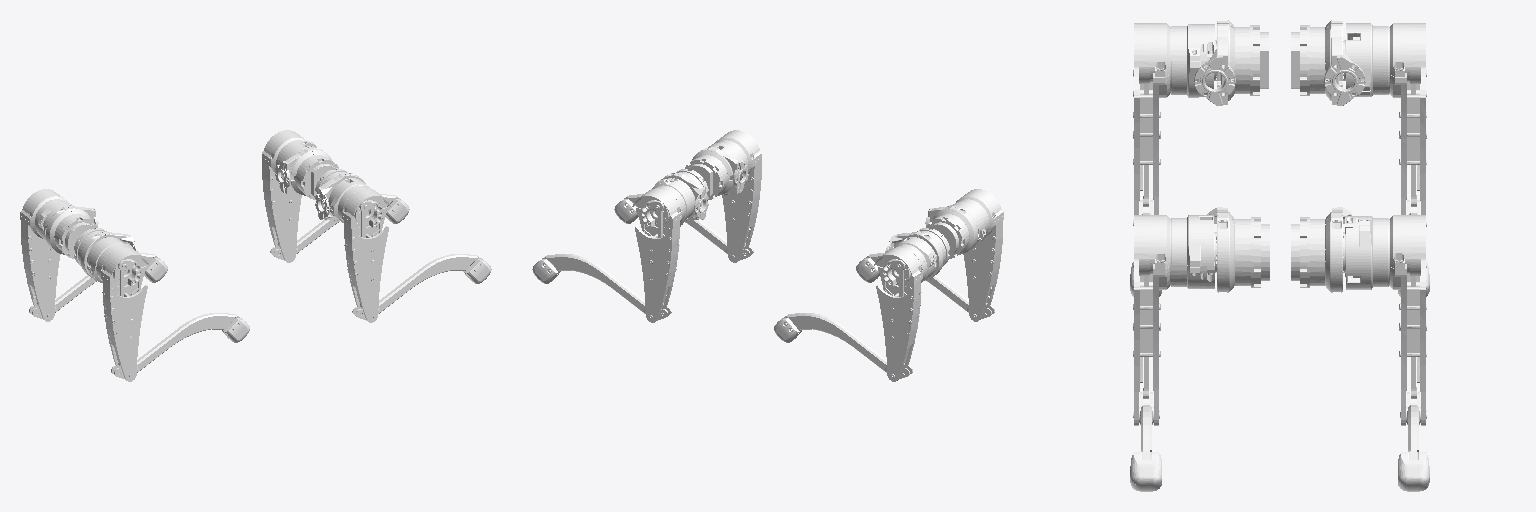
URDF robot description (rc_dog_description_0612):
<?xml version="1.0"?>
<robot name="rc_dog_description_0612">

    <link name="base_link">
      <visual>
        <origin xyz="0 0 0" rpy="0 0 0" />
        <geometry>
          <mesh filename="../meshes/base_link.STL" />
        </geometry>
        <material>
          <color rgba="1.00000000 1.00000000 1.00000000 1.00000000"/>
        </material>
      </visual>
      <collision>
        <origin xyz="-0.21 -0.13 -0.05" rpy="1.5708 0 1.5708" />
        <geometry>
          <mesh filename="../meshes/shenti.STL" scale="0.001 0.001 0.001" />
        </geometry>
      </collision>
      <inertial>
        <origin xyz="-0.0058122 0.0004266 -0.0010546" rpy="0 0 0" />
        <mass value="7.5142" />
        <inertia ixx="0.024114" ixy="-0.0000014" ixz="0.0000137" iyy="0.015768" iyz="0.0000984" izz="0.035708" />
      </inertial>
    </link>

    <link name="lf_hip_link">
      <visual>
        <origin xyz="0 0 0" rpy="0 0 0" />
        <geometry>
          <mesh filename="../meshes/lf_hip_link.STL" />
        </geometry>
        <material>
          <color rgba="1.00000000 1.00000000 1.00000000 1.00000000"/>
        </material>
      </visual>
      <collision>
        <origin xyz="-0.048 -0.0032 -0.0476" rpy="1.5708 0 0" />
        <geometry>
          <mesh filename="../meshes/kuan.STL" scale="0.001 0.001 0.001" />
        </geometry>
      </collision>
      <inertial>
        <origin xyz="-0.0026194 -0.029544 -0.0000049" rpy="0 0 0" />
        <mass value="0.8638" />
        <inertia ixx="0.0002252" ixy="-0.0000042" ixz="0" iyy="0.0002763" iyz="0" izz="0.0001851" />
      </inertial>
    </link>

    <link name="lf_thigh_link">
      <visual>
        <origin xyz="0 0 0" rpy="0 0 0" />
        <geometry>
          <mesh filename="../meshes/lf_thigh_link.STL" />
        </geometry>
        <material>
          <color rgba="1.00000000 1.00000000 1.00000000 1.00000000"/>
        </material>
      </visual>
      <collision>
        <origin xyz="-0.048 -0.085 -0.225" rpy="-1.5707963 -1.5707927 0" />
        <geometry>
          <mesh filename="../meshes/datui_mirror.STL" scale="0.001 0.001 0.001" />
        </geometry>
      </collision>
      <inertial>
        <origin xyz="-0.003252 -0.028809 -0.033085" rpy="0 0 0" />
        <mass value="1.1422" />
        <inertia ixx="0.0009913" ixy="0.0000045" ixz="-0.0000008" iyy="0.0011199" iyz="-0.0000099" izz="0.0002928" />
      </inertial>
    </link>

    <link name="lf_calf_link">
      <visual>
        <origin xyz="0 0 0" rpy="0 0 0" />
        <geometry>
          <mesh filename="../meshes/lf_calf_link.STL" />
        </geometry>
        <material>
          <color rgba="1.00000000 1.00000000 1.00000000 1.00000000"/>
        </material>
      </visual>
      <collision>
        <origin xyz="-0.1269 0.0075 -0.17" rpy="1.5708 0.4712389 0" />
        <geometry>
          <mesh filename="../meshes/xiaotui.STL" scale="0.001 0.001 0.001" />
        </geometry>
      </collision>
      <inertial>
        <origin xyz="0.034924 0.0000004 -0.12524" rpy="0 0 0" />
        <mass value="0.0623" />
        <inertia ixx="0.0004934" ixy="0" ixz="-0.000092" iyy="0.0005221" iyz="0" izz="0.0000311" />
      </inertial>
    </link>

    <link name="lf_foot_link">
      <visual>
        <origin xyz="0 0 0" rpy="0 0 0" />
        <geometry>
          <mesh filename="../meshes/lf_foot_link.STL" />
        </geometry>
        <material>
          <color rgba="1.00000000 1.00000000 1.00000000 1.00000000"/>
        </material>
      </visual>
      <collision>
        <origin xyz="-0.0418 0.019 0.002" rpy="1.5707963 0.9599311 0" />
        <geometry>
          <mesh filename="../meshes/zuduan.STL" scale="0.001 0.001 0.001" />
        </geometry>
      </collision>
      <inertial>
        <origin xyz="-0.0087141 -0.0000799 -0.0060694" rpy="0 0 0" />
        <mass value="0.05601" />
        <inertia ixx="0.0000137" ixy="-0.0000001" ixz="-0.0000004" iyy="0.0000146" iyz="0" izz="0.0000129" />
      </inertial>
    </link>

    <link name="rf_hip_link">
      <visual>
        <origin xyz="0 0 0" rpy="0 0 0" />
        <geometry>
          <mesh filename="../meshes/rf_hip_link.STL" />
        </geometry>
        <material>
          <color rgba="1.00000000 1.00000000 1.00000000 1.00000000"/>
        </material>
      </visual>
      <collision>
        <origin xyz="-0.048 0.0667 -0.0476" rpy="1.5708 0 0" />
        <geometry>
          <mesh filename="../meshes/kuan.STL" scale="0.001 0.001 0.001" />
        </geometry>
      </collision>
      <inertial>
        <origin xyz="-0.0026194 0.030493 0.0000049" rpy="0 0 0" />
        <mass value="0.8638" />
        <inertia ixx="0.0002252" ixy="0.0000042" ixz="0" iyy="0.0002763" iyz="0" izz="0.0001851" />
      </inertial>
    </link>

    <link name="rf_thigh_link">
      <visual>
        <origin xyz="0 0 0" rpy="0 0 0" />
        <geometry>
          <mesh filename="../meshes/rf_thigh_link.STL" />
        </geometry>
        <material>
          <color rgba="1.00000000 1.00000000 1.00000000 1.00000000"/>
        </material>
      </visual>
      <collision>
        <origin xyz="0.301 0.085 -0.307" rpy="1.5707963 -1.5707963 0" />
        <geometry>
          <mesh filename="../meshes/datui.STL" scale="0.001 0.001 0.001" />
        </geometry>
      </collision>
      <inertial>
        <origin xyz="-0.0033202 0.028778 -0.032834" rpy="0 0 0" />
        <mass value="1.1422" />
        <inertia ixx="0.0009672" ixy="0.000001" ixz="-0.0000125" iyy="0.0011219" iyz="0.0000072" izz="0.0003191" />
      </inertial>
    </link>

    <link name="rf_calf_link">
      <visual>
        <origin xyz="0 0 0" rpy="0 0 0" />
        <geometry>
          <mesh filename="../meshes/rf_calf_link.STL" />
        </geometry>
        <material>
          <color rgba="1.00000000 1.00000000 1.00000000 1.00000000"/>
        </material>
      </visual>
      <collision>
        <origin xyz="-0.1269 0.0075 -0.17" rpy="1.5708 0.4712389 0" />
        <geometry>
          <mesh filename="../meshes/xiaotui.STL" scale="0.001 0.001 0.001" />
        </geometry>
      </collision>
      <inertial>
        <origin xyz="0.034924 0.0000004 -0.12524" rpy="0 0 0" />
        <mass value="0.0623" />
        <inertia ixx="0.0004934" ixy="0" ixz="-0.000092" iyy="0.0005221" iyz="0" izz="0.0000311" />
      </inertial>
    </link>

    <link name="rf_foot_link">
      <visual>
        <origin xyz="0 0 0" rpy="0 0 0" />
        <geometry>
          <mesh filename="../meshes/rf_foot_link.STL" />
        </geometry>
        <material>
          <color rgba="1.00000000 1.00000000 1.00000000 1.00000000"/>
        </material>
      </visual>
      <collision>
        <origin xyz="-0.0418 0.019 0.002" rpy="1.5707963 0.9599311 0" />
        <geometry>
          <mesh filename="../meshes/zuduan.STL" scale="0.001 0.001 0.001" />
        </geometry>
      </collision>
      <inertial>
        <origin xyz="-0.0087141 -0.0000799 -0.0060694" rpy="0 0 0" />
        <mass value="0.05601" />
        <inertia ixx="0.0000137" ixy="-0.0000001" ixz="-0.0000004" iyy="0.0000146" iyz="0" izz="0.0000129" />
      </inertial>
    </link>

    <link name="lb_hip_link">
      <visual>
        <origin xyz="0 0 0" rpy="0 0 0" />
        <geometry>
          <mesh filename="../meshes/lb_hip_link.STL" />
        </geometry>
        <material>
          <color rgba="1.00000000 1.00000000 1.00000000 1.00000000"/>
        </material>
      </visual>
      <collision>
        <origin xyz="-0.0473 -0.0032 -0.0476" rpy="1.5708 0 0" />
        <geometry>
          <mesh filename="../meshes/kuan.STL" scale="0.001 0.001 0.001" />
        </geometry>
      </collision>
      <inertial>
        <origin xyz="0.0026194 -0.029544 0.0000049" rpy="0 0 0" />
        <mass value="0.8638" />
        <inertia ixx="0.0002252" ixy="0.0000042" ixz="0" iyy="0.0002763" iyz="0" izz="0.0001851" />
      </inertial>
    </link>

    <link name="lb_thigh_link">
      <visual>
        <origin xyz="0 0 0" rpy="0 0 0" />
        <geometry>
          <mesh filename="../meshes/lb_thigh_link.STL" />
        </geometry>
        <material>
          <color rgba="1.00000000 1.00000000 1.00000000 1.00000000"/>
        </material>
      </visual>
      <collision>
        <origin xyz="-0.048 -0.085 -0.225" rpy="-1.5707963 -1.5707927 0" />
        <geometry>
          <mesh filename="../meshes/datui_mirror.STL" scale="0.001 0.001 0.001" />
        </geometry>
      </collision>
      <inertial>
        <origin xyz="-0.0032654 -0.028809 -0.032811" rpy="0 0 0" />
        <mass value="1.1422" />
        <inertia ixx="0.0009692" ixy="0.0000024" ixz="-0.0000256" iyy="0.0011199" iyz="-0.0000083" izz="0.0003149" />
      </inertial>
    </link>

    <link name="lb_calf_link">
      <visual>
        <origin xyz="0 0 0" rpy="0 0 0" />
        <geometry>
          <mesh filename="../meshes/lb_calf_link.STL" />
        </geometry>
        <material>
          <color rgba="1.00000000 1.00000000 1.00000000 1.00000000"/>
        </material>
      </visual>
      <collision>
        <origin xyz="-0.1269 0.0075 -0.17" rpy="1.5708 0.4712389 0" />
        <geometry>
          <mesh filename="../meshes/xiaotui.STL" scale="0.001 0.001 0.001" />
        </geometry>
      </collision>
      <inertial>
        <origin xyz="0.034924 0.0000004 -0.12524" rpy="0 0 0" />
        <mass value="0.0623" />
        <inertia ixx="0.0004934" ixy="0" ixz="-0.000092" iyy="0.0005221" iyz="0" izz="0.0000311" />
      </inertial>
    </link>

    <link name="lb_foot_link">
      <visual>
        <origin xyz="0 0 0" rpy="0 0 0" />
        <geometry>
          <mesh filename="../meshes/lb_foot_link.STL" />
        </geometry>
        <material>
          <color rgba="1.00000000 1.00000000 1.00000000 1.00000000"/>
        </material>
      </visual>
      <collision>
        <origin xyz="-0.0418 0.019 0.002" rpy="1.5707963 0.9599311 0" />
        <geometry>
          <mesh filename="../meshes/zuduan.STL" scale="0.001 0.001 0.001" />
        </geometry>
      </collision>
      <inertial>
        <origin xyz="-0.0087141 -0.0000799 -0.0060694" rpy="0 0 0" />
        <mass value="0.05601" />
        <inertia ixx="0.0000137" ixy="-0.0000001" ixz="-0.0000004" iyy="0.0000146" iyz="0" izz="0.0000129" />
      </inertial>
    </link>

    <link name="rb_hip_link">
      <visual>
        <origin xyz="0 0 0" rpy="0 0 0" />
        <geometry>
          <mesh filename="../meshes/rb_hip_link.STL" />
        </geometry>
        <material>
          <color rgba="1.00000000 1.00000000 1.00000000 1.00000000"/>
        </material>
      </visual>
      <collision>
        <origin xyz="-0.0473 0.0661 -0.0476" rpy="1.5708 0 0" />
        <geometry>
          <mesh filename="../meshes/kuan.STL" scale="0.001 0.001 0.001" />
        </geometry>
      </collision>
      <inertial>
        <origin xyz="0.0026194 0.029544 -0.0000049" rpy="0 0 0" />
        <mass value="0.8638" />
        <inertia ixx="0.0002252" ixy="-0.0000042" ixz="0" iyy="0.0002763" iyz="0" izz="0.0001851" />
      </inertial>
    </link>

    <link name="rb_thigh_link">
      <visual>
        <origin xyz="0 0 0" rpy="0 0 0" />
        <geometry>
          <mesh filename="../meshes/rb_thigh_link.STL" />
        </geometry>
        <material>
          <color rgba="1.00000000 1.00000000 1.00000000 1.00000000"/>
        </material>
      </visual>
      <collision>
        <origin xyz="0.301 0.085 -0.307" rpy="1.5707963 -1.5707927 0" />
        <geometry>
          <mesh filename="../meshes/datui.STL" scale="0.001 0.001 0.001" />
        </geometry>
      </collision>
      <inertial>
        <origin xyz="-0.0035511 0.028778 -0.032821" rpy="0 0 0" />
        <mass value="1.1422" />
        <inertia ixx="0.0009725" ixy="-0.0000048" ixz="0" iyy="0.0011219" iyz="0.000016" izz="0.0003138" />
      </inertial>
    </link>

    <link name="rb_calf_link">
      <visual>
        <origin xyz="0 0 0" rpy="0 0 0" />
        <geometry>
          <mesh filename="../meshes/rb_calf_link.STL" />
        </geometry>
        <material>
          <color rgba="1.00000000 1.00000000 1.00000000 1.00000000"/>
        </material>
      </visual>
      <collision>
        <origin xyz="-0.1269 0.0075 -0.17" rpy="1.5708 0.4712389 0" />
        <geometry>
          <mesh filename="../meshes/xiaotui.STL" scale="0.001 0.001 0.001" />
        </geometry>
      </collision>
      <inertial>
        <origin xyz="0.034924 0.0000004 -0.12524" rpy="0 0 0" />
        <mass value="0.0623" />
        <inertia ixx="0.0004934" ixy="0" ixz="-0.000092" iyy="0.0005221" iyz="0" izz="0.0000311" />
      </inertial>
    </link>

    <link name="rb_foot_link">
      <visual>
        <origin xyz="0 0 0" rpy="0 0 0" />
        <geometry>
          <mesh filename="../meshes/rb_foot_link.STL" />
        </geometry>
        <material>
          <color rgba="1.00000000 1.00000000 1.00000000 1.00000000"/>
        </material>
      </visual>
      <collision>
        <origin xyz="-0.0418 0.019 0.002" rpy="1.5707963 0.9599311 0" />
        <geometry>
          <mesh filename="../meshes/zuduan.STL" scale="0.001 0.001 0.001" />
        </geometry>
      </collision>
      <inertial>
        <origin xyz="-0.0087141 -0.0000799 -0.0060694" rpy="0 0 0" />
        <mass value="0.05601" />
        <inertia ixx="0.0000137" ixy="-0.0000001" ixz="-0.0000004" iyy="0.0000146" iyz="0" izz="0.0000129" />
      </inertial>
    </link>

  <joint name="lf_hip_roll_joint" type="revolute">
    <parent link="base_link" />
    <child link="lf_hip_link" />
    <origin xyz="0.269 0.077 0.0065" rpy="0 0 0" />
    <axis xyz="1 0 0" />
    <limit lower="-0.87" upper="0.87" effort="42" velocity="10.472" />
  </joint>

  <joint name="lf_hip_pitch_joint" type="revolute">
    <parent link="lf_hip_link" />
    <child link="lf_thigh_link" />
    <origin xyz="0 0.0812604 0" rpy="0 0 0" />
    <axis xyz="0 1 0" />
    <limit lower="-0.79" upper="2.61" effort="42" velocity="10.472" />
  </joint>

  <joint name="lf_knee_joint" type="revolute">
    <parent link="lf_thigh_link" />
    <child link="lf_calf_link" />
    <origin xyz="0 0 -0.2125" rpy="0 0 0" />
    <axis xyz="0 1 0" />
    <limit lower="-2.5" upper="-0.82" effort="42" velocity="10.472" />
  </joint>

  <joint name="lf_ankle_joint" type="fixed">
    <parent link="lf_calf_link" />
    <child link="lf_foot_link" />
    <origin xyz="0.0241527 0 -0.2386162" rpy="0 0 0" />
  </joint>

  <joint name="rf_hip_roll_joint" type="revolute">
    <parent link="base_link" />
    <child link="rf_hip_link" />
    <origin xyz="0.269 -0.077 0.0065" rpy="0 0 0" />
    <axis xyz="1 0 0" />
    <limit lower="-0.87" upper="0.87" effort="42" velocity="10.472" />
  </joint>

  <joint name="rf_hip_pitch_joint" type="revolute">
    <parent link="rf_hip_link" />
    <child link="rf_thigh_link" />
    <origin xyz="0 -0.0812604 0" rpy="0 0 0" />
    <axis xyz="0 1 0" />
    <limit lower="-0.79" upper="2.61" effort="42" velocity="10.472" />
  </joint>

  <joint name="rf_knee_joint" type="revolute">
    <parent link="rf_thigh_link" />
    <child link="rf_calf_link" />
    <origin xyz="0 0 -0.2125" rpy="0 0 0" />
    <axis xyz="0 1 0" />
    <limit lower="-2.5" upper="-0.82" effort="42" velocity="10.472" />
  </joint>

  <joint name="rf_ankle_joint" type="fixed">
    <parent link="rf_calf_link" />
    <child link="rf_foot_link" />
    <origin xyz="0.0241527 0 -0.2386162" rpy="0 0 0" />
  </joint>

  <joint name="lb_hip_roll_joint" type="revolute">
    <parent link="base_link" />
    <child link="lb_hip_link" />
    <origin xyz="-0.269 0.077 0.0065" rpy="0 0 0" />
    <axis xyz="1 0 0" />
    <limit lower="-0.87" upper="0.87" effort="42" velocity="10.472" />
  </joint>

  <joint name="lb_hip_pitch_joint" type="revolute">
    <parent link="lb_hip_link" />
    <child link="lb_thigh_link" />
    <origin xyz="0 0.0812604 0" rpy="0 0 0" />
    <axis xyz="0 1 0" />
    <limit lower="-0.79" upper="2.61" effort="42" velocity="10.472" />
  </joint>

  <joint name="lb_knee_joint" type="revolute">
    <parent link="lb_thigh_link" />
    <child link="lb_calf_link" />
    <origin xyz="0 0 -0.2125" rpy="0 0 0" />
    <axis xyz="0 1 0" />
    <limit lower="-2.5" upper="-0.82" effort="42" velocity="10.472" />
  </joint>

  <joint name="lb_ankle_joint" type="fixed">
    <parent link="lb_calf_link" />
    <child link="lb_foot_link" />
    <origin xyz="0.0241527 0 -0.2386162" rpy="0 0 0" />
  </joint>

  <joint name="rb_hip_roll_joint" type="revolute">
    <parent link="base_link" />
    <child link="rb_hip_link" />
    <origin xyz="-0.269 -0.077 0.0065" rpy="0 0 0" />
    <axis xyz="1 0 0" />
    <limit lower="-0.87" upper="0.87" effort="42" velocity="10.472" />
  </joint>

  <joint name="rb_hip_pitch_joint" type="revolute">
    <parent link="rb_hip_link" />
    <child link="rb_thigh_link" />
    <origin xyz="0 -0.0812604 0" rpy="0 0 0" />
    <axis xyz="0 1 0" />
    <limit lower="-0.79" upper="2.61" effort="42" velocity="10.472" />
  </joint>

  <joint name="rb_knee_joint" type="revolute">
    <parent link="rb_thigh_link" />
    <child link="rb_calf_link" />
    <origin xyz="0 0 -0.2125" rpy="0 0 0" />
    <axis xyz="0 1 0" />
    <limit lower="-2.5" upper="-0.82" effort="42" velocity="10.472" />
  </joint>

  <joint name="rb_ankle_joint" type="fixed">
    <parent link="rb_calf_link" />
    <child link="rb_foot_link" />
    <origin xyz="0.0241527 0 -0.2386162" rpy="0 0 0" />
  </joint>

</robot>

--- What the picture shows (computed from the rendered views, not written in the file) ---
The picture shows the robot from 3 angles, left to right: view 1: azimuth 30°, elevation 25°; view 2: azimuth 150°, elevation 25°; view 3: azimuth 270°, elevation 25°; orthographic projection.
Robot: rc_dog_description_0612 — 17 links, 16 joints (12 revolute, 4 fixed); root link base_link; default pose: joints at zero except 4 at the middle of their limits (lf_knee_joint = -1.66, rf_knee_joint = -1.66, lb_knee_joint = -1.66, rb_knee_joint = -1.66).
Links seen in each view (by area): view 1: rb_thigh_link, rf_thigh_link, lb_thigh_link, lf_thigh_link, lf_hip_link, lb_hip_link, rb_calf_link, rf_calf_link, rf_hip_link, rb_hip_link, lb_calf_link, lf_calf_link; view 2: lf_thigh_link, lb_thigh_link, rb_thigh_link, rf_thigh_link, rf_hip_link, rb_hip_link, lb_calf_link, lf_calf_link, lb_hip_link, lf_hip_link, rb_calf_link, rf_calf_link; view 3: rf_thigh_link, lf_thigh_link, lb_thigh_link, rb_thigh_link, rb_hip_link, lb_hip_link, rf_hip_link, lf_hip_link, lf_foot_link, rf_foot_link, lf_calf_link, rf_calf_link.
Boxes of the visible links, x1,y1,x2,y2 form: rb_thigh_link: (87,237,149,381); rf_thigh_link: (328,178,391,322); lb_thigh_link: (20,189,74,321); lf_thigh_link: (262,130,316,262); lf_hip_link: (275,147,338,199); lb_hip_link: (46,206,98,258); rb_calf_link: (111,313,239,378); rf_calf_link: (352,254,480,320); rf_hip_link: (315,168,365,220); rb_hip_link: (74,228,138,277); lb_calf_link: (29,253,157,318); lf_calf_link: (270,194,398,260); lf_thigh_link: (632,178,695,322); lb_thigh_link: (874,237,936,381); rb_thigh_link: (947,189,1003,321); rf_thigh_link: (708,130,761,262); rf_hip_link: (685,147,748,199); rb_hip_link: (925,206,977,258); lb_calf_link: (784,313,912,378); lf_calf_link: (543,254,671,320); lb_hip_link: (885,228,949,279); lf_hip_link: (661,169,708,220); rb_calf_link: (866,253,994,318); rf_calf_link: (625,194,753,260); rf_thigh_link: (1133,215,1216,425); lf_thigh_link: (1343,215,1426,425); lb_thigh_link: (1343,23,1426,226); rb_thigh_link: (1133,23,1216,225); rb_hip_link: (1194,20,1268,105); lb_hip_link: (1291,20,1365,105); rf_hip_link: (1207,207,1269,292); lf_hip_link: (1291,207,1353,292); lf_foot_link: (1398,452,1429,491); rf_foot_link: (1130,452,1161,491); lf_calf_link: (1407,392,1419,459); rf_calf_link: (1140,392,1152,459).
Bounding box of the posed robot: 0.8531 × 0.3545 × 0.2735 m (x, y, z).
16 mesh visuals loaded from 17 distinct referenced files (16 binary STL); not drawn: 1 (reference not matched to a file when rendering).
